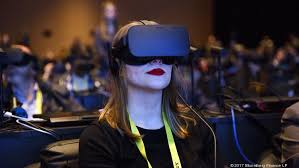oculus: (112, 23, 194, 68)
